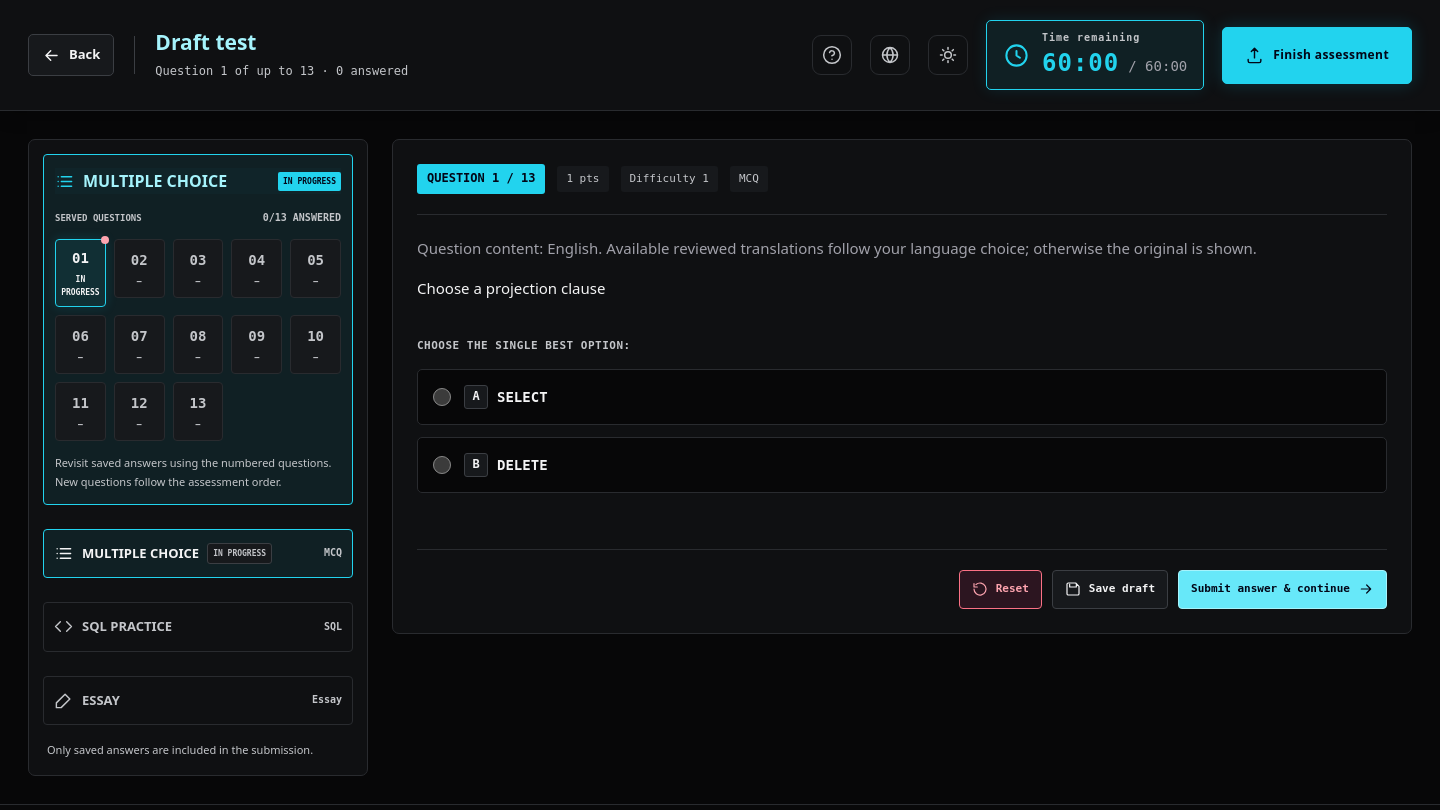
shows pending grading without a fabricated score
The width and height of the screenshot is (1440, 810).
What coordinates should you click on to do the following:
click the text "SELECT"
I would click on:
 (522, 397)
Its box is [497,385,548,409].
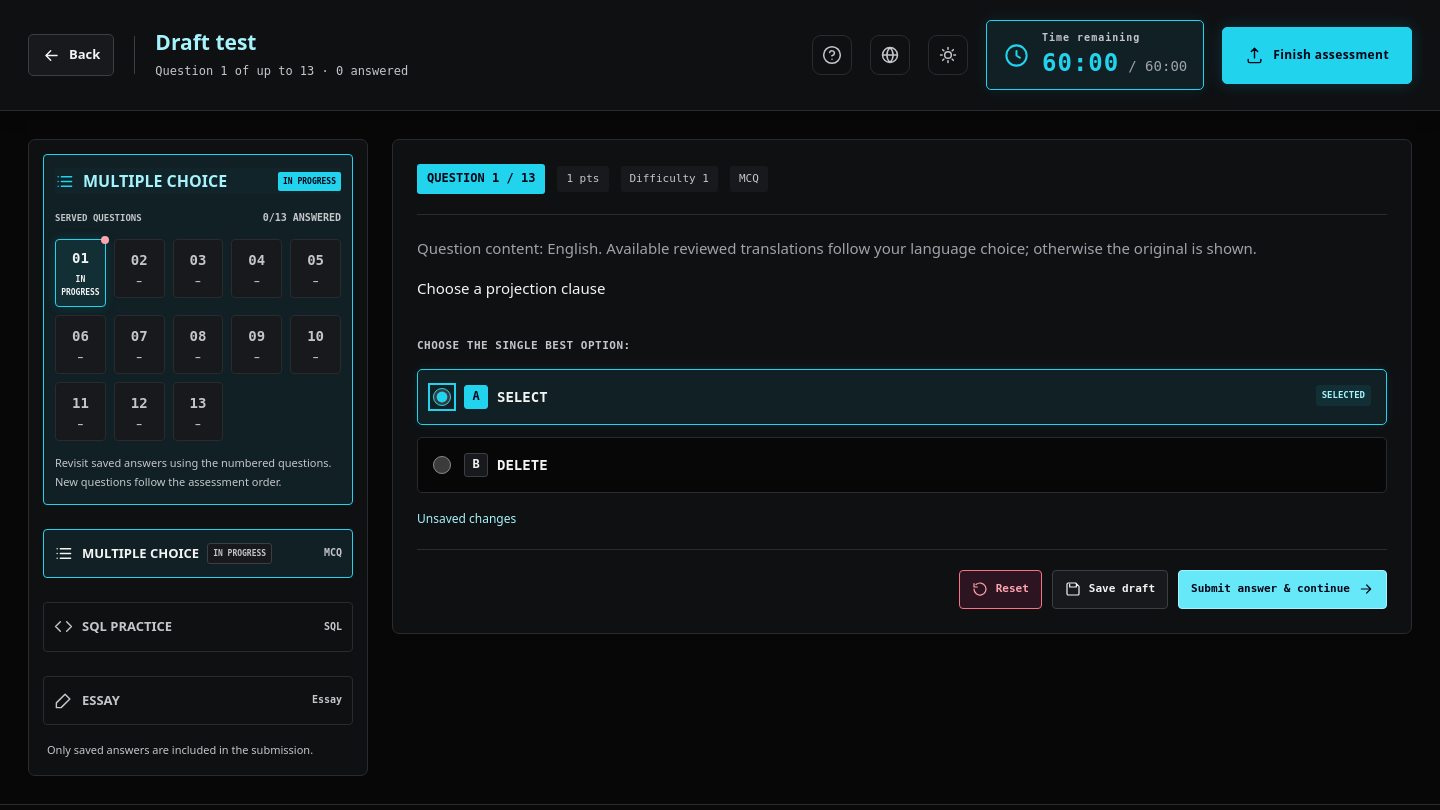
What coordinates should you click on to do the following:
click the button "Submit answer & continue"
I would click on:
 (1282, 590)
Its box is [1178,570,1387,609].
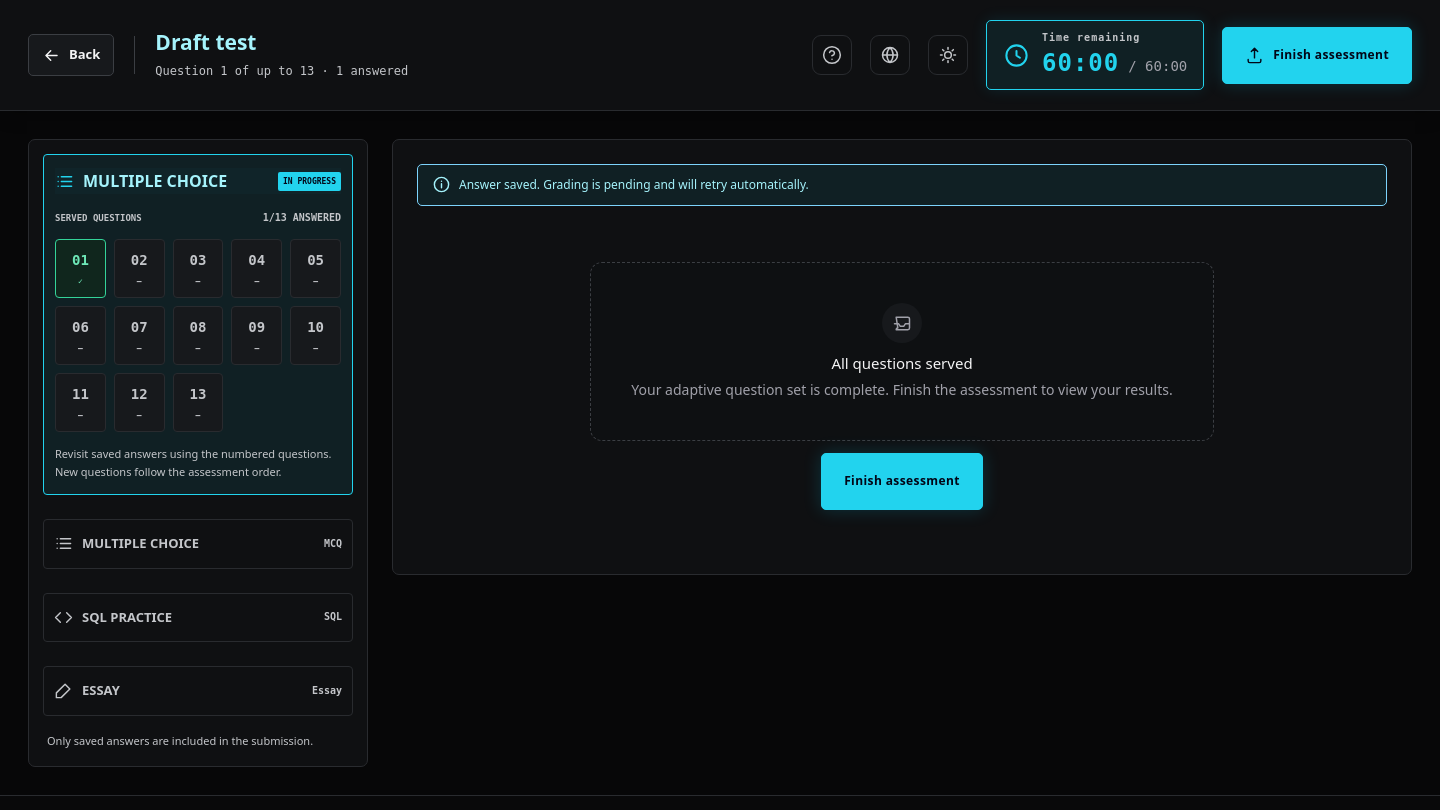
Result: the text "Answer saved. Grading is pending and will retry automatically." is shown at [459,175,809,195]
